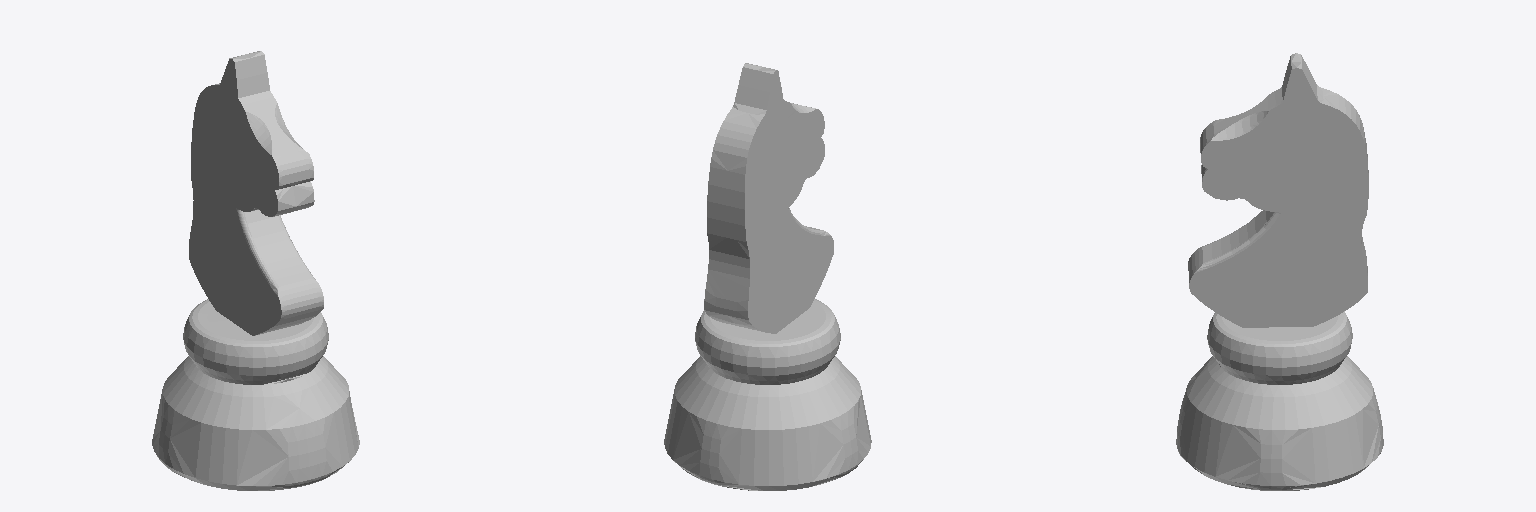
The model's file is whiteKnight.obj.
3 views of the same model, side by side, from view 1: azimuth 30°, elevation 25°; view 2: azimuth 150°, elevation 25°; view 3: azimuth 270°, elevation 25° (orthographic).
Parts seen in each view (by area): view 1: Obj_000098; view 2: Obj_000098; view 3: Obj_000098.
Part boxes in pixels (bbox=[...]): Obj_000098: bbox=[152, 51, 359, 490]; Obj_000098: bbox=[664, 63, 871, 490]; Obj_000098: bbox=[1176, 53, 1383, 490].
Bounding box in the file's own units: 3.56 × 7.38 × 3.56.